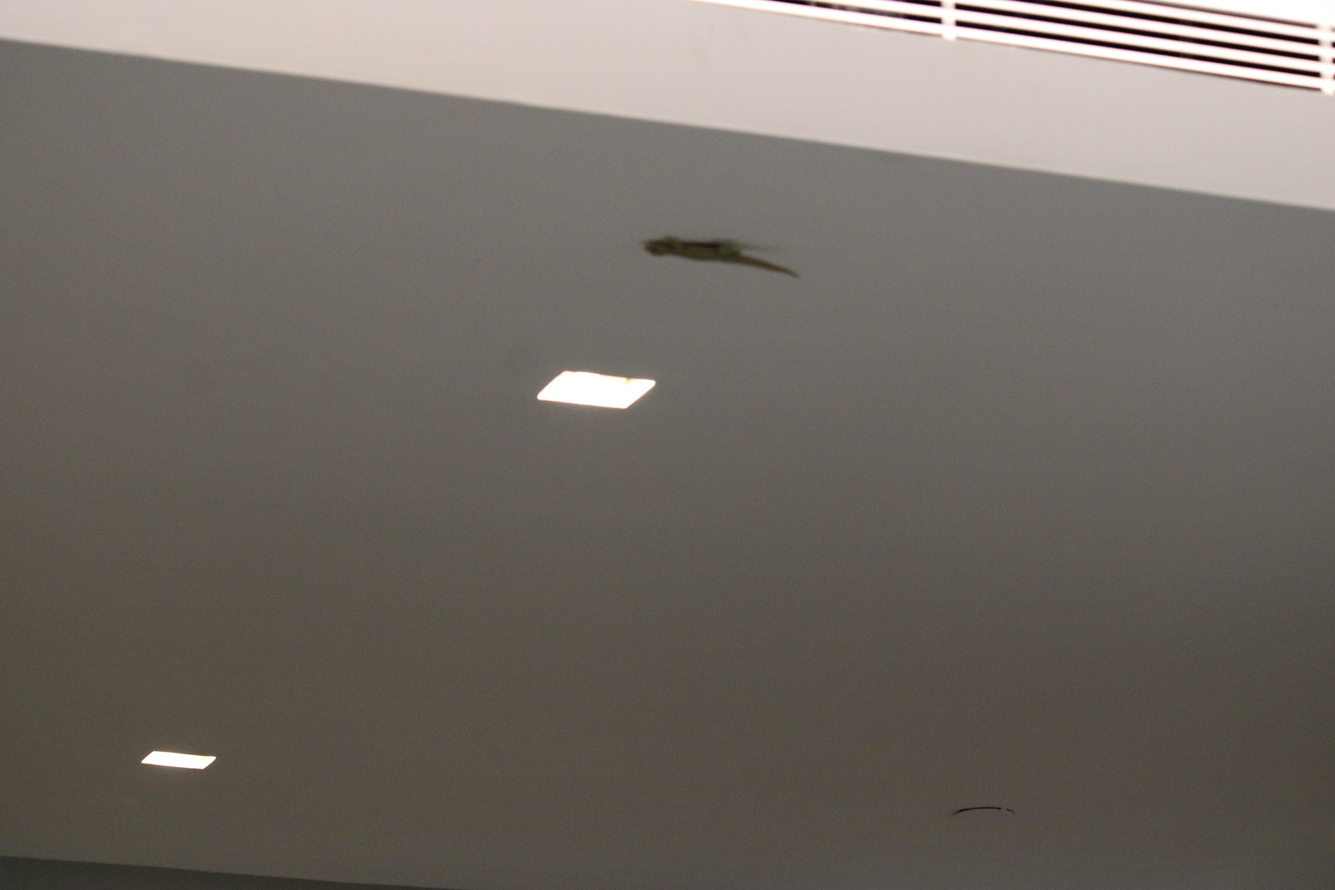lizard: (637, 225, 793, 285)
